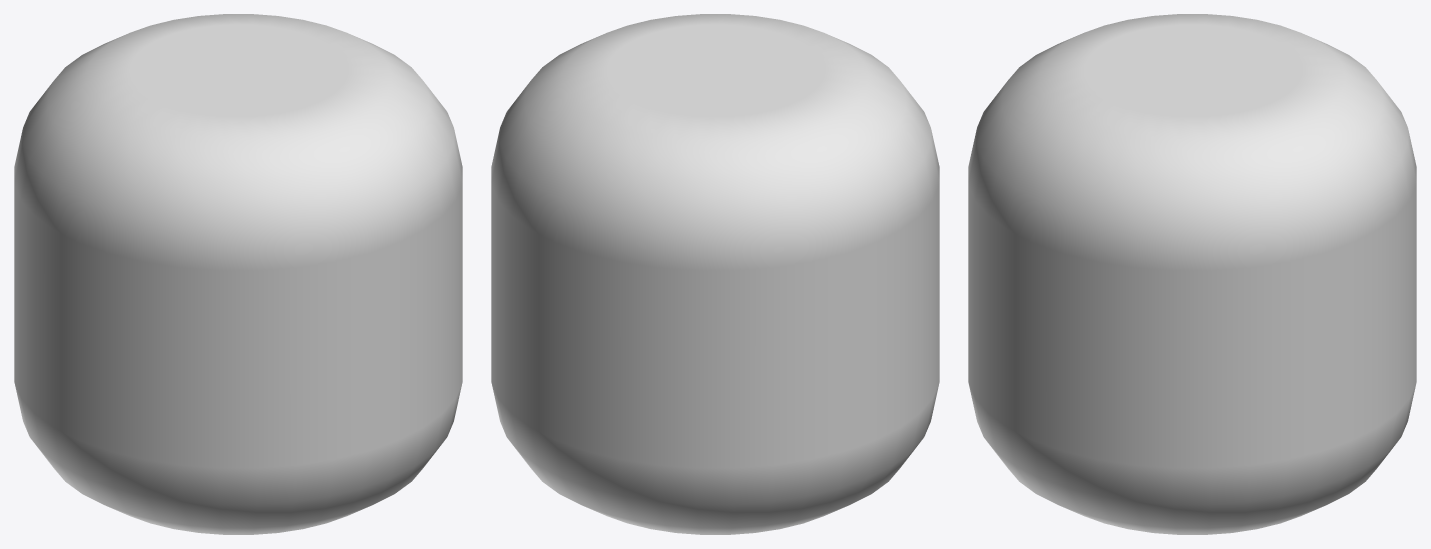
Rendered from 24-creepy-weirdcore-eyes-face.glb.
3 renders of one model, left to right at view 1: azimuth 30°, elevation 25°; view 2: azimuth 150°, elevation 25°; view 3: azimuth 270°, elevation 25°, orthographic.
Visible parts, largest first — view 1: 24-creepy-weirdcore-eyes-face; view 2: 24-creepy-weirdcore-eyes-face; view 3: 24-creepy-weirdcore-eyes-face.
Boxes of the visible parts, x1=… form: 24-creepy-weirdcore-eyes-face: x1=14, y1=14, x2=462, y2=534; 24-creepy-weirdcore-eyes-face: x1=491, y1=14, x2=939, y2=534; 24-creepy-weirdcore-eyes-face: x1=968, y1=14, x2=1416, y2=534.
Size of the model in its own units: 1.2 by 1.2 by 1.2.
1 material, 1 textured.
